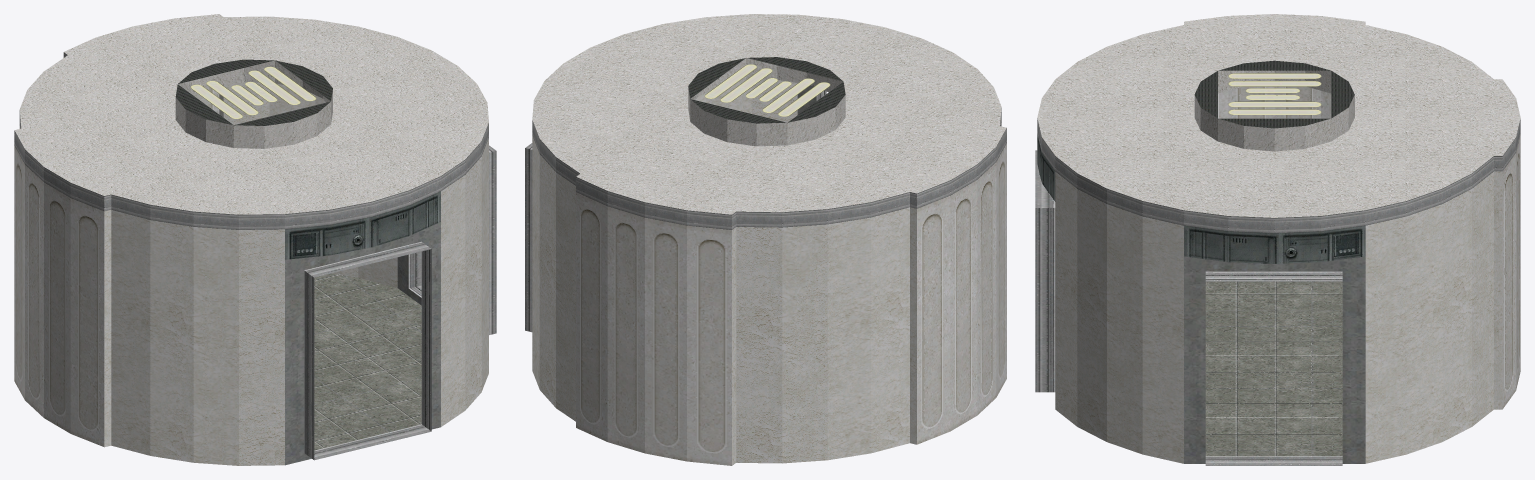
Rendered from ply_corl_house_lg_s01_fp1_r5_room5_mesh_r5.fbx.
3 renders of one model, left to right at view 1: azimuth 30°, elevation 25°; view 2: azimuth 150°, elevation 25°; view 3: azimuth 270°, elevation 25°, orthographic.
Visible parts, largest first — view 1: mesh_node; view 2: mesh_node; view 3: mesh_node.
Boxes of the visible parts, x1,y1,x2,y2 form: mesh_node: (14,14,496,465); mesh_node: (525,14,1006,465); mesh_node: (1035,14,1520,465).
Bounding box in the file's own units: 7.19 × 4.5 × 7.16.
